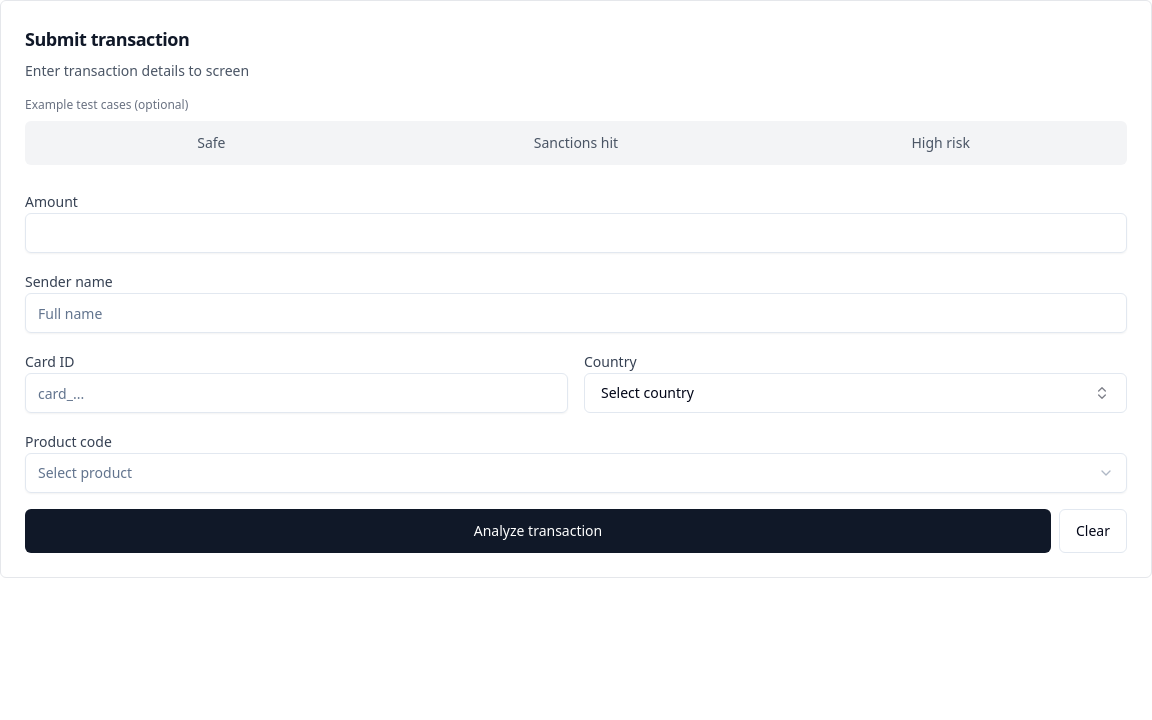
TransactionForm › Preset Tabs › fills form with Safe preset values when Safe tab is clicked
Click the tab "Safe": point(211, 143) 29,125 -> 394,161
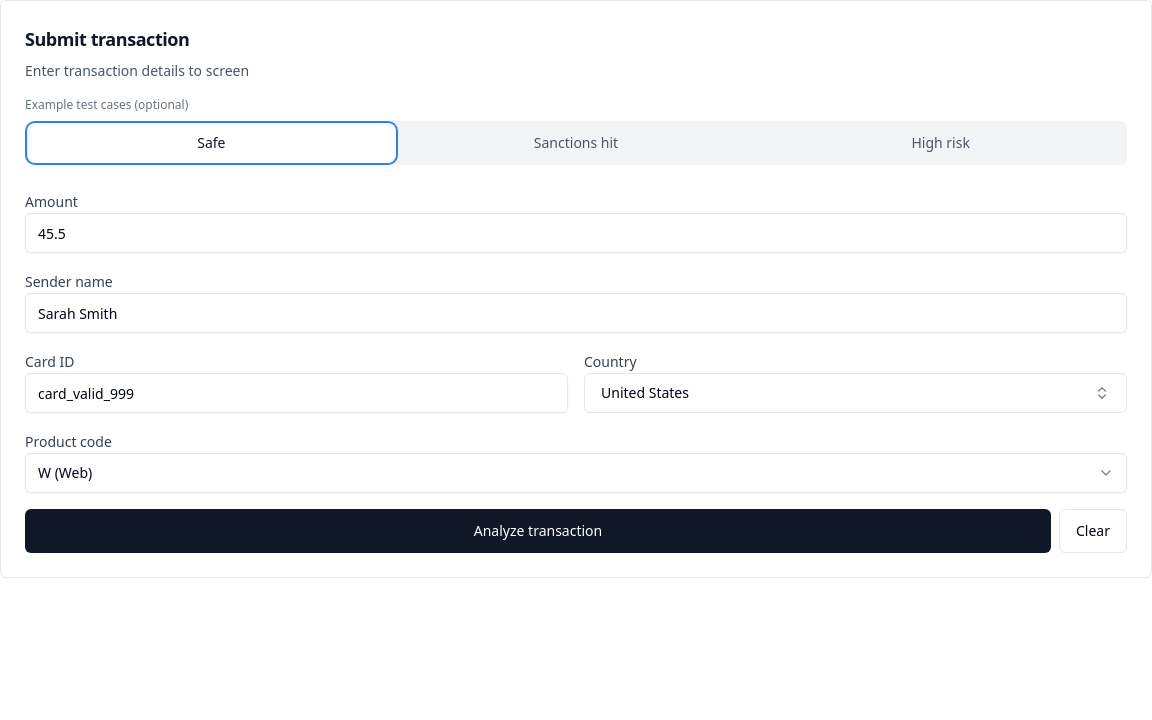
Result: the number field labelled "Amount" holds "45.5" at 25,213 -> 1127,253
Result: the field labelled "Sender name" holds "Sarah Smith" at 25,293 -> 1127,333
Result: the field labelled "Card ID" holds "card_valid_999" at 25,373 -> 568,413
